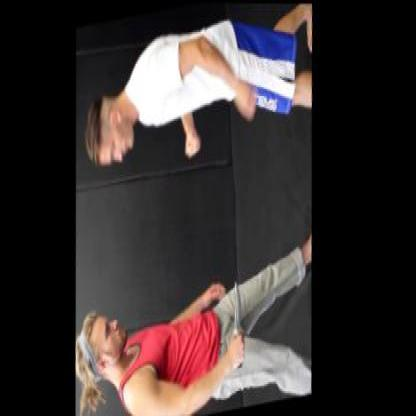knife: (228, 273, 256, 372)
